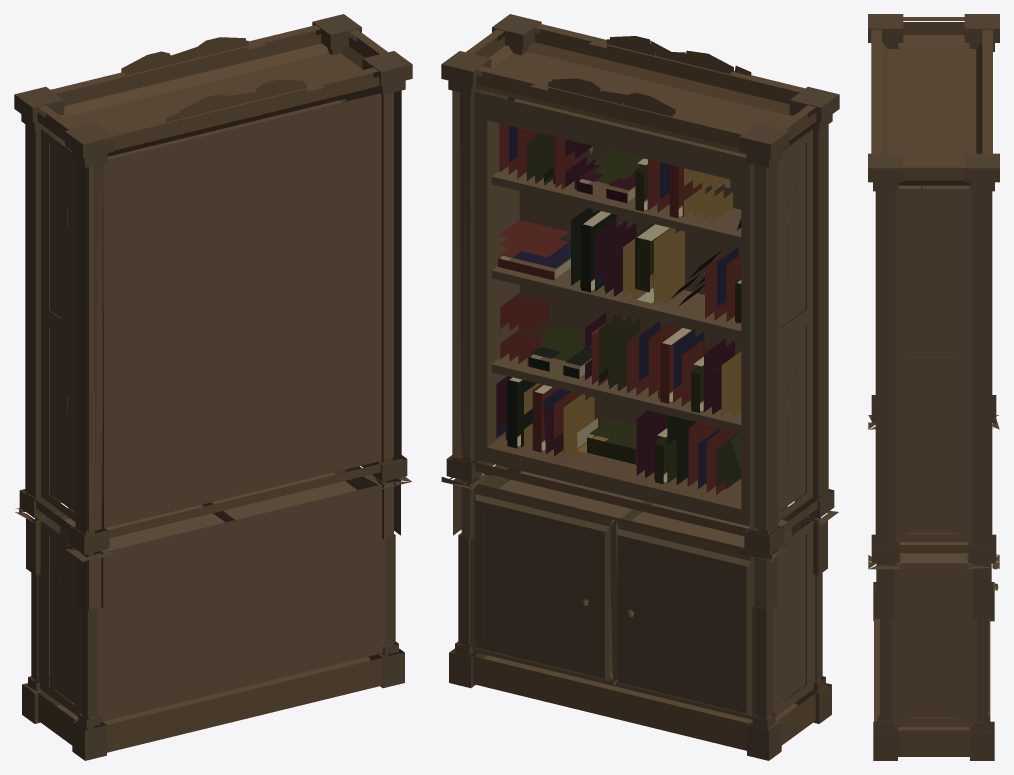
The model's file is bookcase_books.fbx.
3 renders of one model, left to right at view 1: azimuth 30°, elevation 25°; view 2: azimuth 150°, elevation 25°; view 3: azimuth 270°, elevation 25°, orthographic. The views are drawn at different scales.
Visible parts, largest first — view 1: BookCase_Single; view 2: BookCase_Single; view 3: BookCase_Single.
Part boxes in pixels (bbox=[...]): BookCase_Single: bbox=[14, 14, 412, 760]; BookCase_Single: bbox=[441, 14, 839, 760]; BookCase_Single: bbox=[868, 14, 999, 760].
Size of the model in its own units: 0.5458 by 0.9989 by 0.1969.
